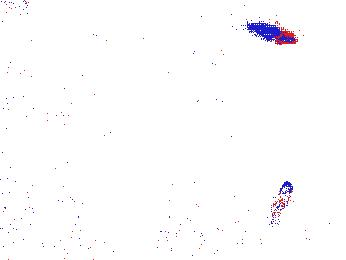X-ray fish: (122, 162, 177, 187), (271, 178, 297, 217)
red belly glassfish: (247, 19, 304, 50)
redtail glassfish: (186, 36, 257, 71)
